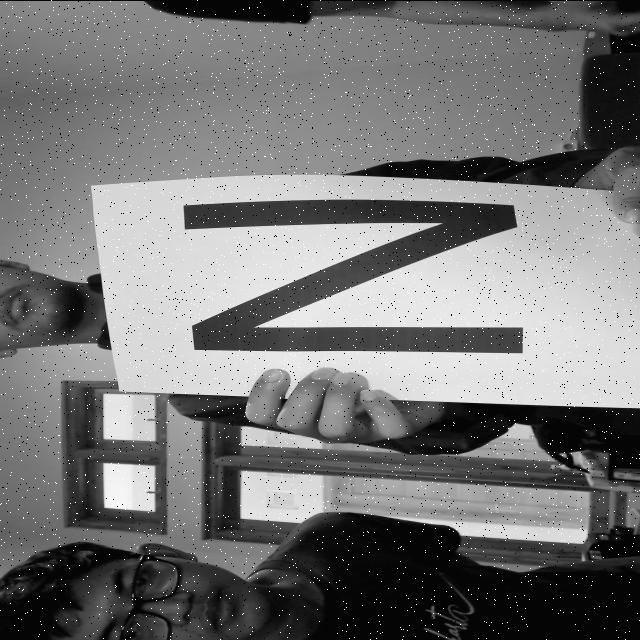n: (167, 192, 557, 382)
